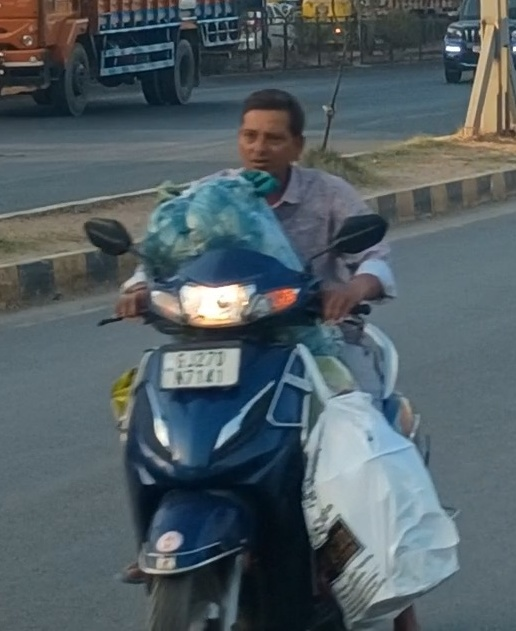BikeWithRider: (73, 82, 471, 630)
NoHelmet: (224, 82, 316, 184)
